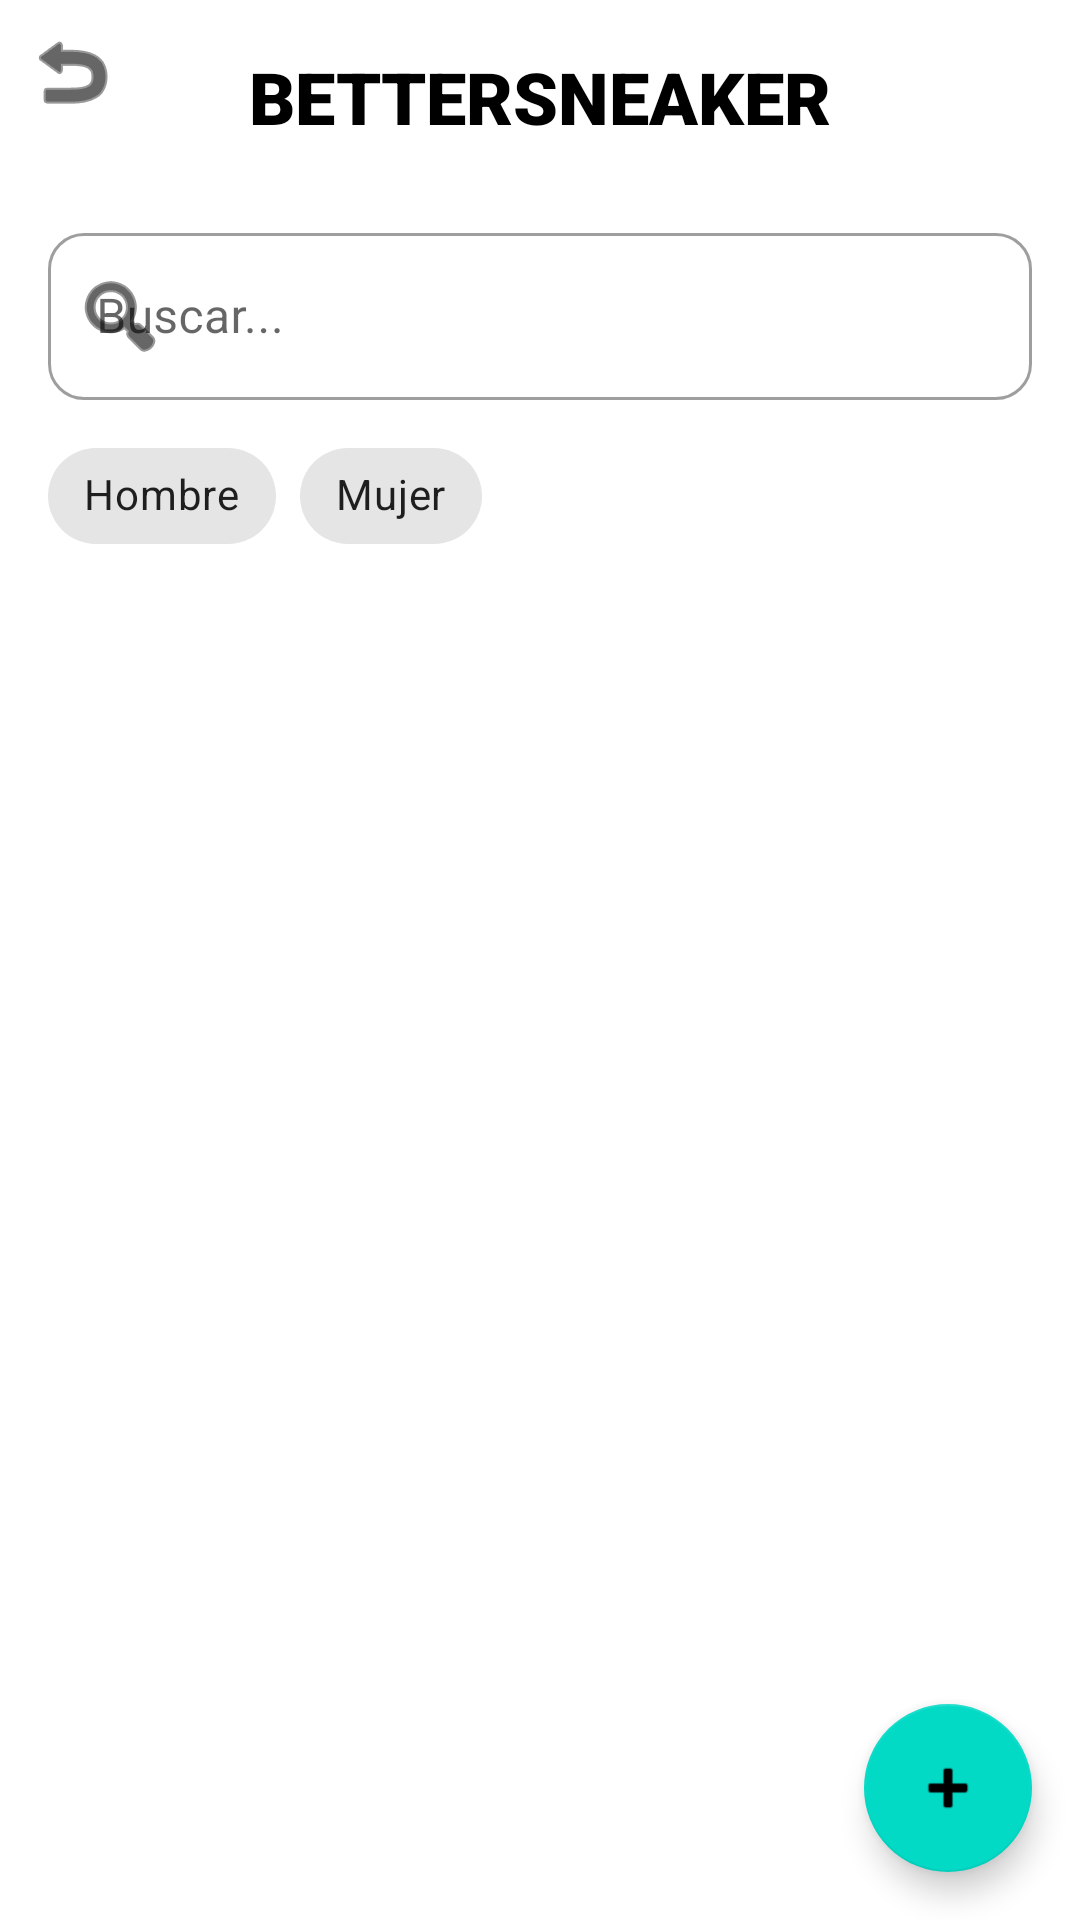

Icon bounding boxes for this 1080w x 1920h phone screenshot, format [x1, y1, x2, y2]:
add: [864, 1704, 1032, 1872]
revert: [39, 41, 108, 104]
